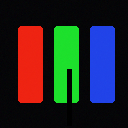4 line_v: (67, 69, 71, 125)
